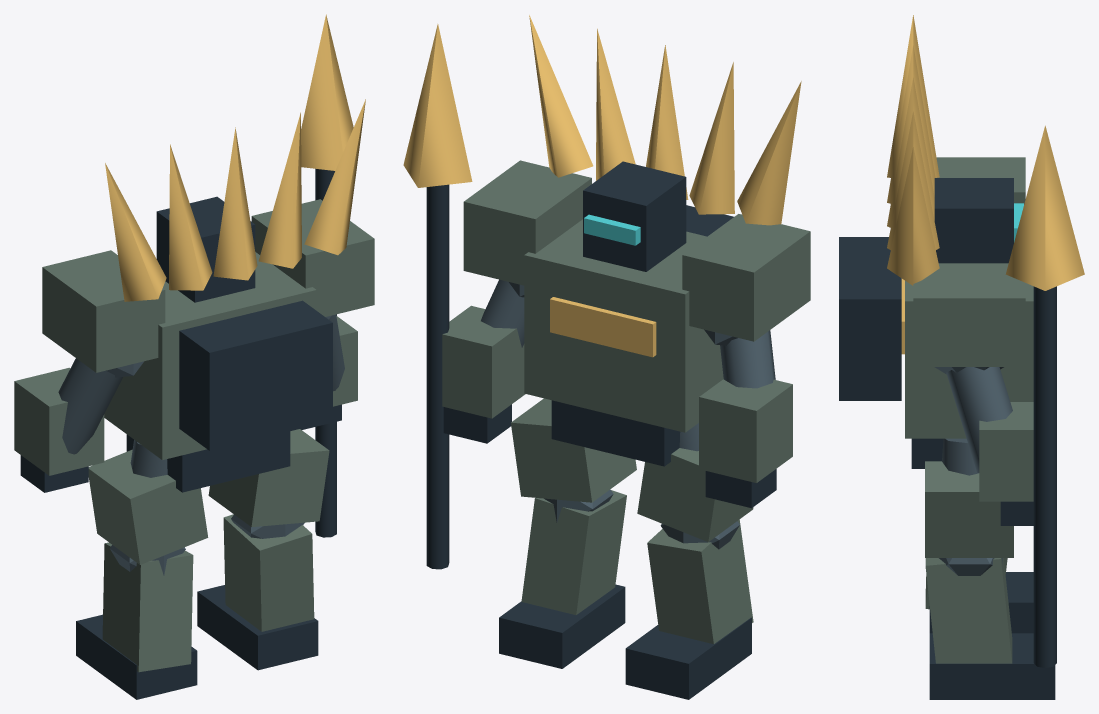
The model's file is frame-manticore.glb.
The picture shows the model from 3 angles, left to right: view 1: azimuth 30°, elevation 25°; view 2: azimuth 150°, elevation 25°; view 3: azimuth 270°, elevation 25°; orthographic projection. The views are drawn at different scales.
Parts seen in each view (by area): view 1: frame-manticore; view 2: frame-manticore; view 3: frame-manticore.
Boxes of the visible parts, x1,y1,x2,y2 form: frame-manticore: (14, 14, 374, 699); frame-manticore: (403, 15, 810, 699); frame-manticore: (839, 15, 1084, 699).
Size of the model in its own units: 1.24 by 2.03 by 0.745.
